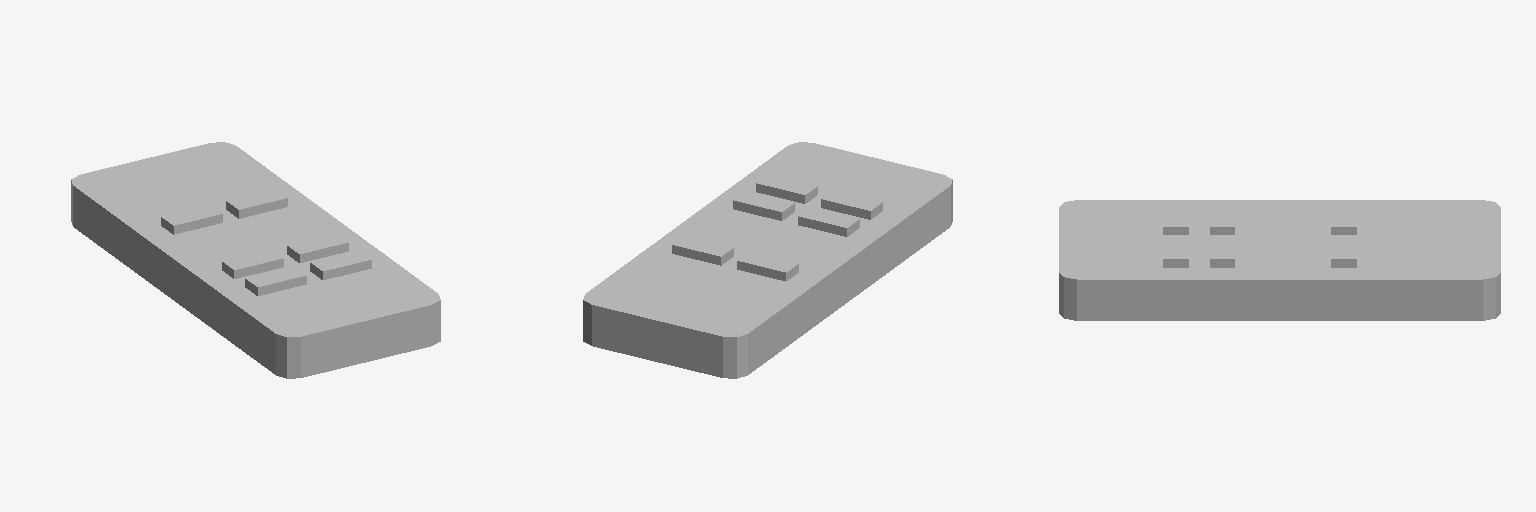
File: Controller_1.obj
The picture shows the model from 3 angles: view 1: azimuth 30°, elevation 25°; view 2: azimuth 150°, elevation 25°; view 3: azimuth 270°, elevation 25°; orthographic projection.
Visible parts, largest first — view 1: Controller_1; view 2: Controller_1; view 3: Controller_1.
Boxes of the visible parts, x1=… form: Controller_1: x1=71, y1=142, x2=440, y2=378; Controller_1: x1=583, y1=142, x2=952, y2=378; Controller_1: x1=1059, y1=200, x2=1500, y2=320.
Bounding box in the file's own units: 0.0845 × 0.025 × 0.1986.